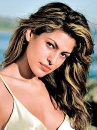female: (21, 10, 82, 86)
